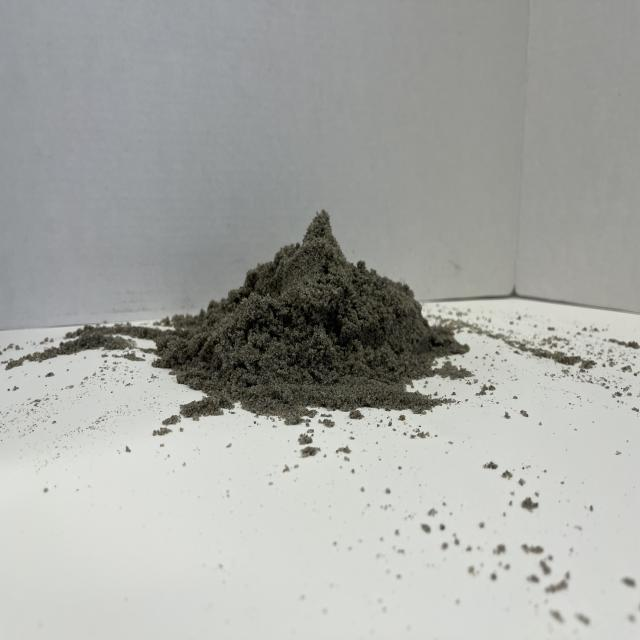sand: (141, 200, 504, 438)
